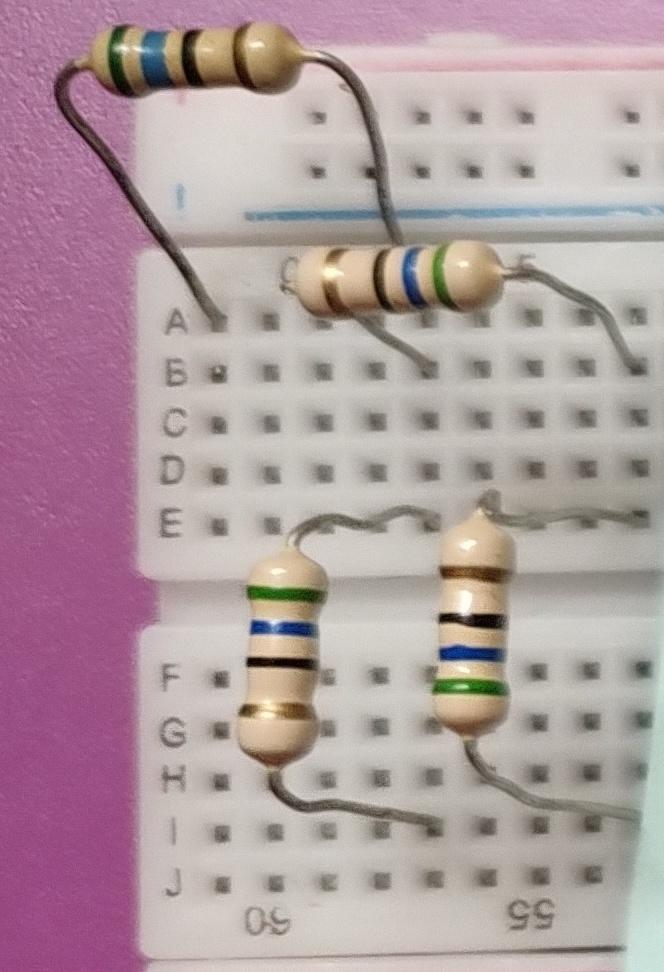resistor: (280, 212, 522, 345), (75, 8, 323, 122), (420, 508, 515, 750), (233, 532, 328, 770)
